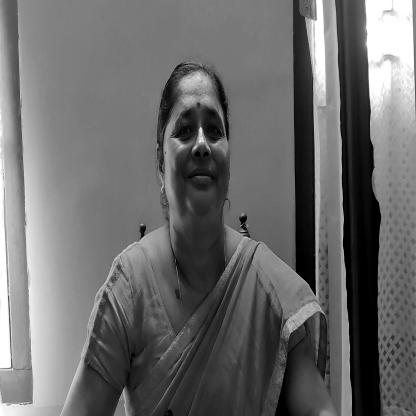Normal: (161, 79, 235, 240)
